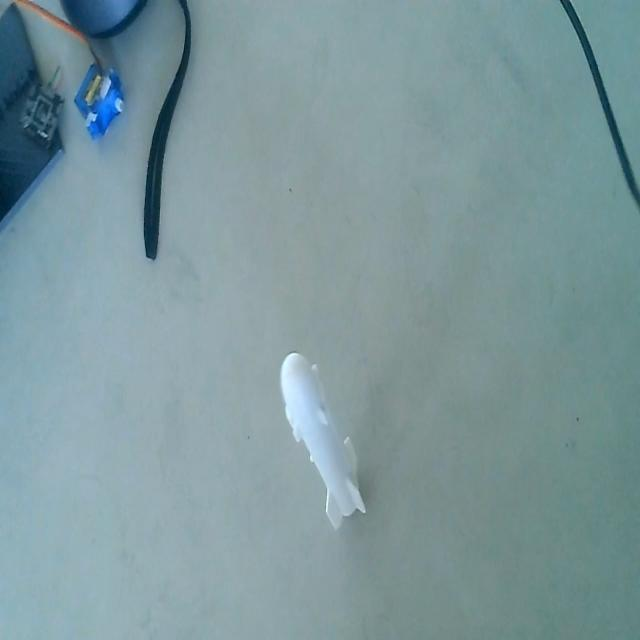Rocket: (278, 348, 369, 542)
